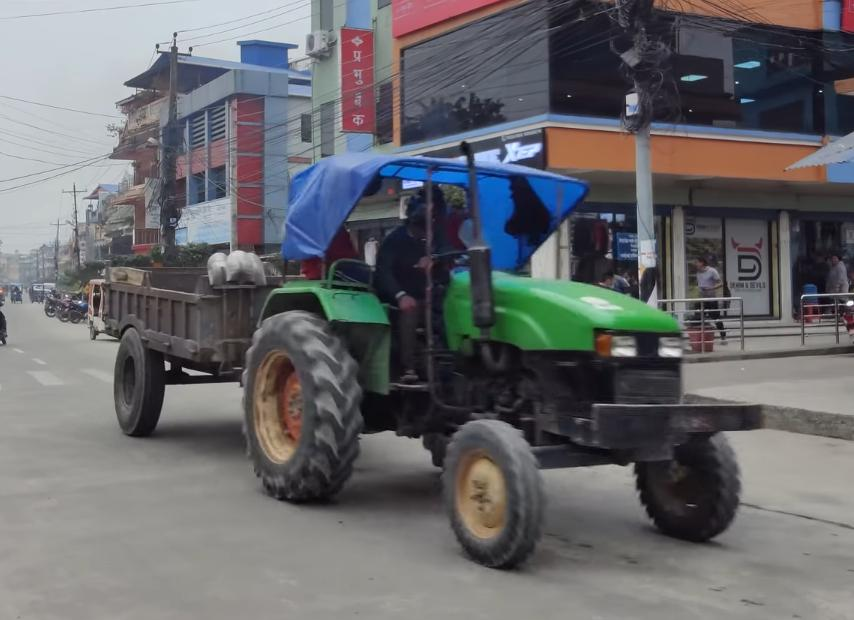tractor: (237, 135, 763, 579)
